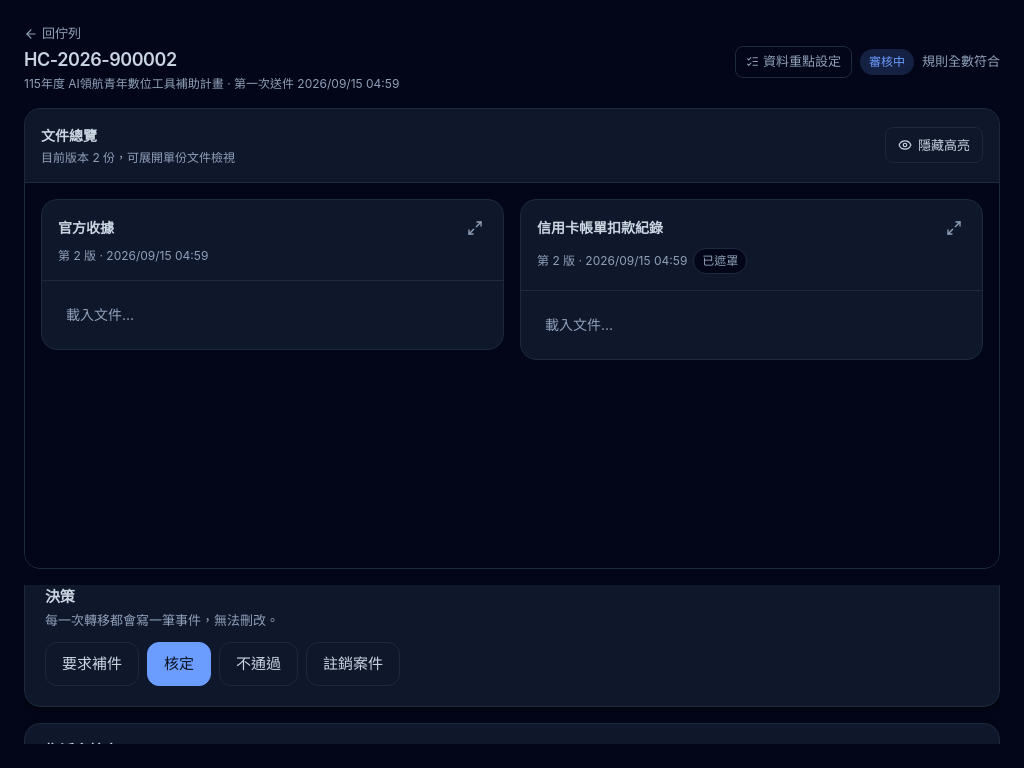
CaseReviewPage › 補件表單只列出這件案子真的要附的文件
This screenshot has width=1024, height=768.
(page scrolled)
Step 1. Click the button "要求補件" → click(92, 664), box [45,642,139,686]
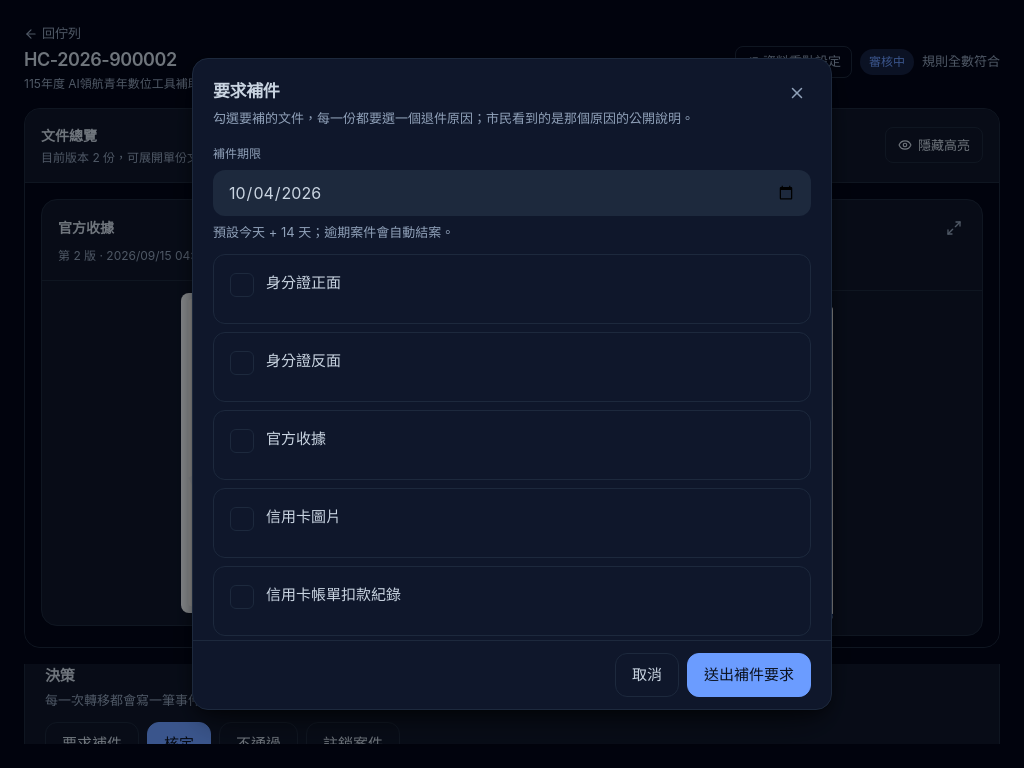
expect the text "補件期限" is shown: met, box [213,146,261,161]
